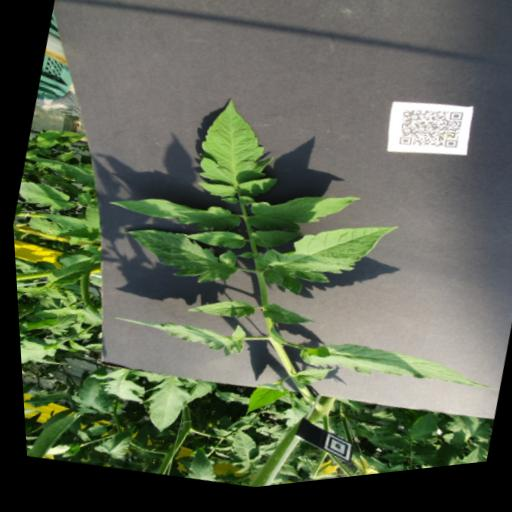Healthy: (239, 201, 400, 328), (291, 327, 490, 419), (184, 93, 294, 222), (108, 218, 241, 303), (104, 299, 245, 375), (102, 183, 242, 253), (239, 179, 361, 259), (129, 371, 194, 444), (17, 150, 100, 203), (61, 358, 118, 422), (79, 361, 145, 412), (12, 175, 79, 223), (179, 291, 254, 333), (38, 248, 97, 301), (216, 429, 266, 485), (174, 224, 244, 263), (85, 419, 133, 467), (239, 380, 285, 430), (255, 303, 315, 340), (15, 326, 56, 378), (244, 227, 300, 264), (177, 446, 220, 490), (394, 414, 438, 455), (18, 383, 67, 417), (24, 298, 72, 328), (289, 366, 332, 399), (53, 220, 100, 248), (33, 126, 66, 150)
